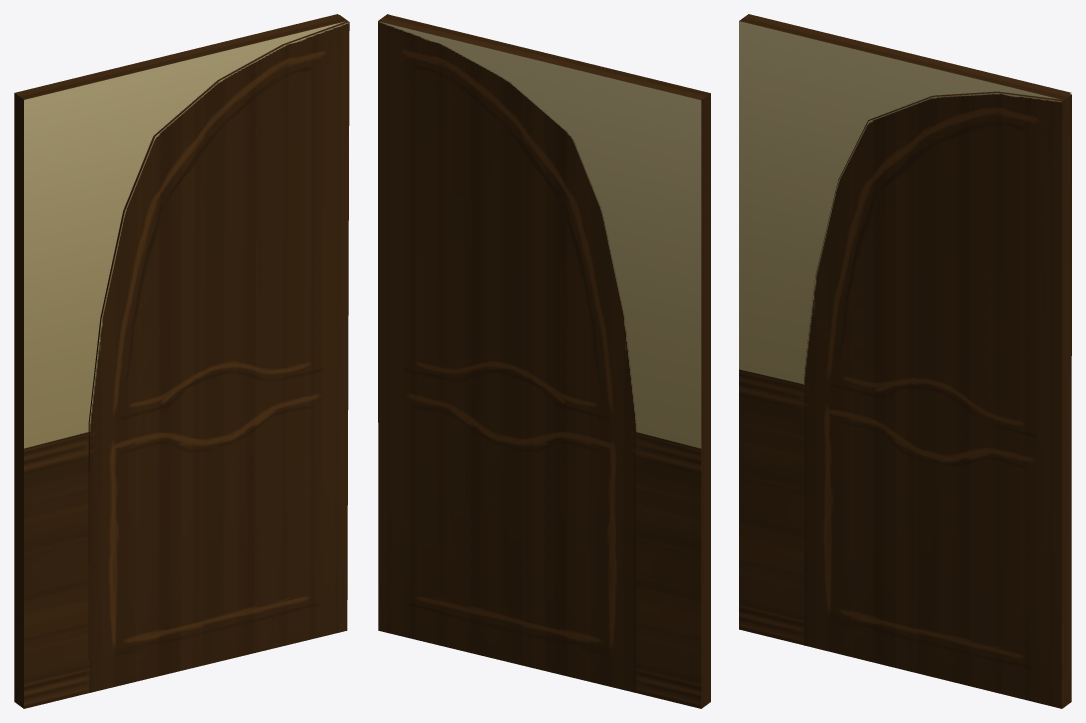
The model's file is DoorL.fbx.
3 views of the same model, side by side, from view 1: azimuth 30°, elevation 25°; view 2: azimuth 150°, elevation 25°; view 3: azimuth 330°, elevation 25° (orthographic).
Visible parts, largest first — view 1: Door_L, Dframe_L; view 2: Door_L, Dframe_L; view 3: Door_L, Dframe_L.
Boxes of the visible parts, left/top/right/bottom form: Door_L: left=88, top=15, right=349, bottom=692; Dframe_L: left=14, top=14, right=346, bottom=708; Door_L: left=378, top=14, right=636, bottom=692; Dframe_L: left=378, top=14, right=710, bottom=708; Door_L: left=803, top=91, right=1071, bottom=708; Dframe_L: left=739, top=14, right=1071, bottom=645.
Bounding box in the file's own units: 502 × 901 × 28.23.
